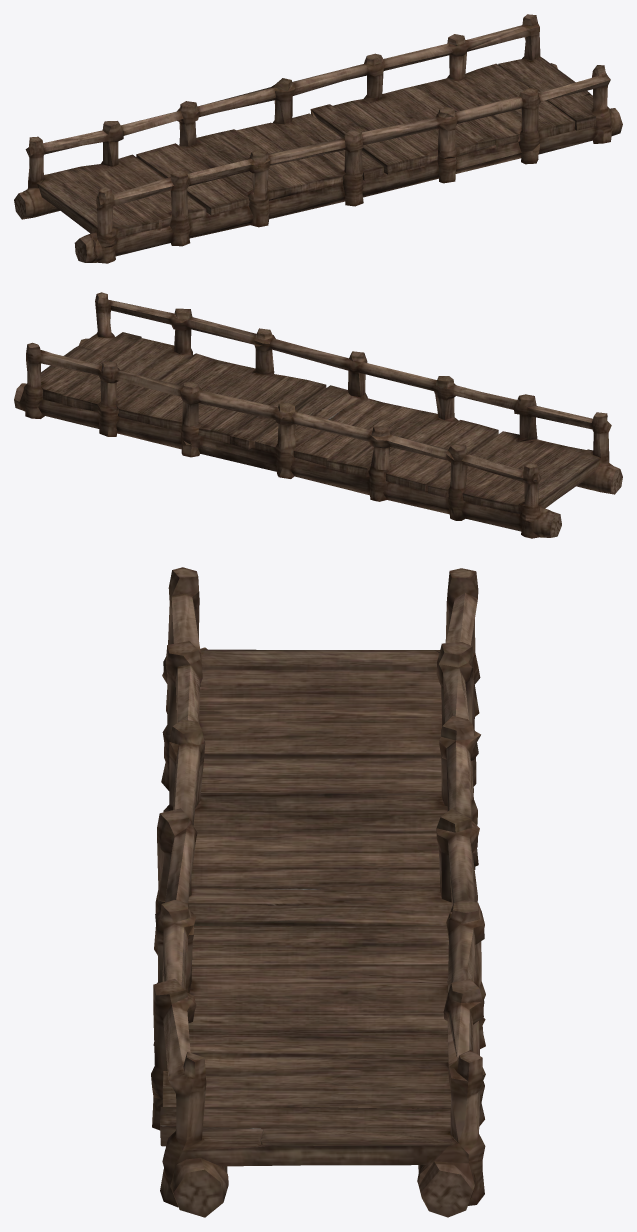
3 renders of one model, top to bottom at view 1: azimuth 30°, elevation 25°; view 2: azimuth 150°, elevation 25°; view 3: azimuth 270°, elevation 25°, orthographic. The views are drawn at different scales.
Visible parts, largest first — view 1: wood-footbridge.001; view 2: wood-footbridge.001; view 3: wood-footbridge.001.
Boxes of the visible parts, box(x1,y1,x2,y2) form: wood-footbridge.001: box(14, 14, 622, 263); wood-footbridge.001: box(14, 292, 622, 538); wood-footbridge.001: box(151, 567, 485, 1217).
Size of the model in its own units: 11.54 by 1.54 by 3.13.
1 material, 1 textured.
